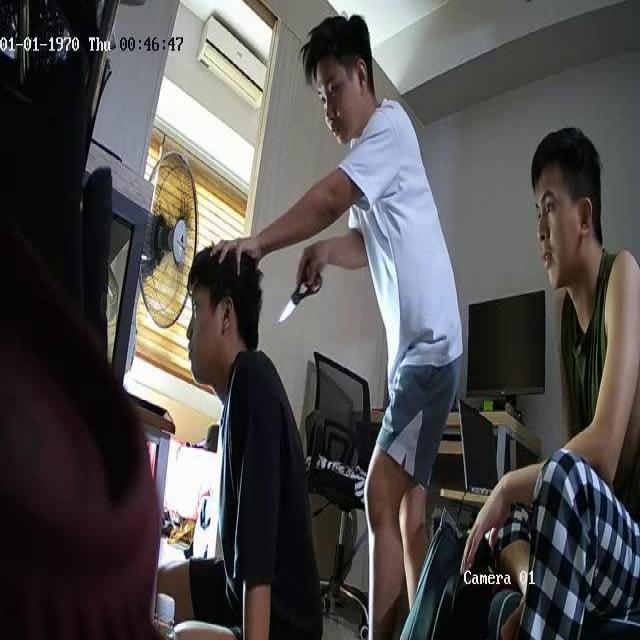scissor: (281, 266, 323, 320)
